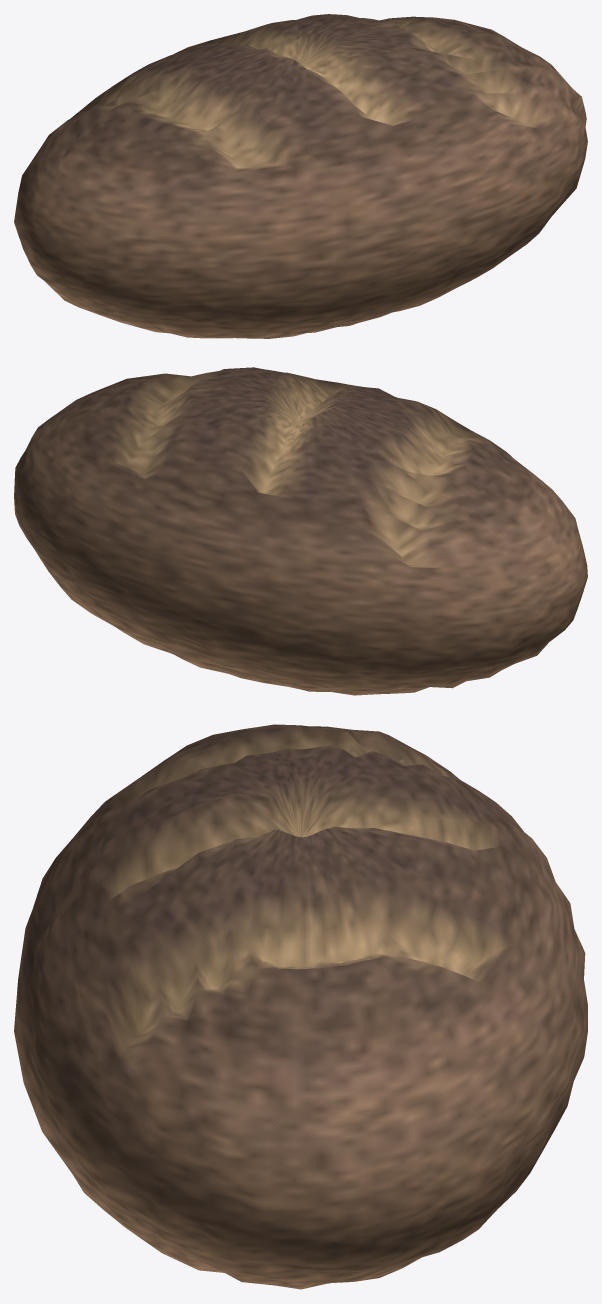
The model's file is burnt_loaf.glb.
3 renders of one model, top to bottom at view 1: azimuth 30°, elevation 25°; view 2: azimuth 150°, elevation 25°; view 3: azimuth 270°, elevation 25°, orthographic. The views are drawn at different scales.
Parts seen in each view (by area): view 1: CharredScoredCrust; view 2: CharredScoredCrust; view 3: CharredScoredCrust.
Part boxes in pixels (x1,y1,x2,y2): CharredScoredCrust: (14, 14, 587, 338); CharredScoredCrust: (14, 367, 587, 695); CharredScoredCrust: (14, 724, 587, 1289).
Size of the model in its own units: 1.12 by 0.5228 by 0.6831.
Materials: 1 (1 with a texture image).
